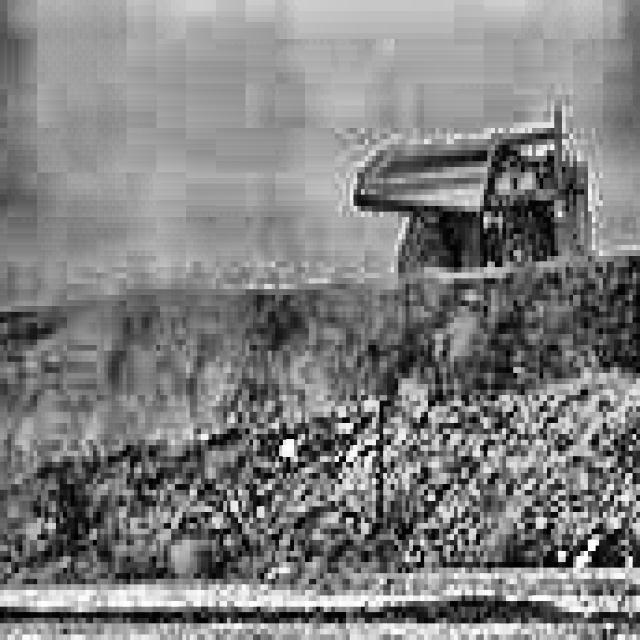dump_truck: (338, 95, 632, 278)
